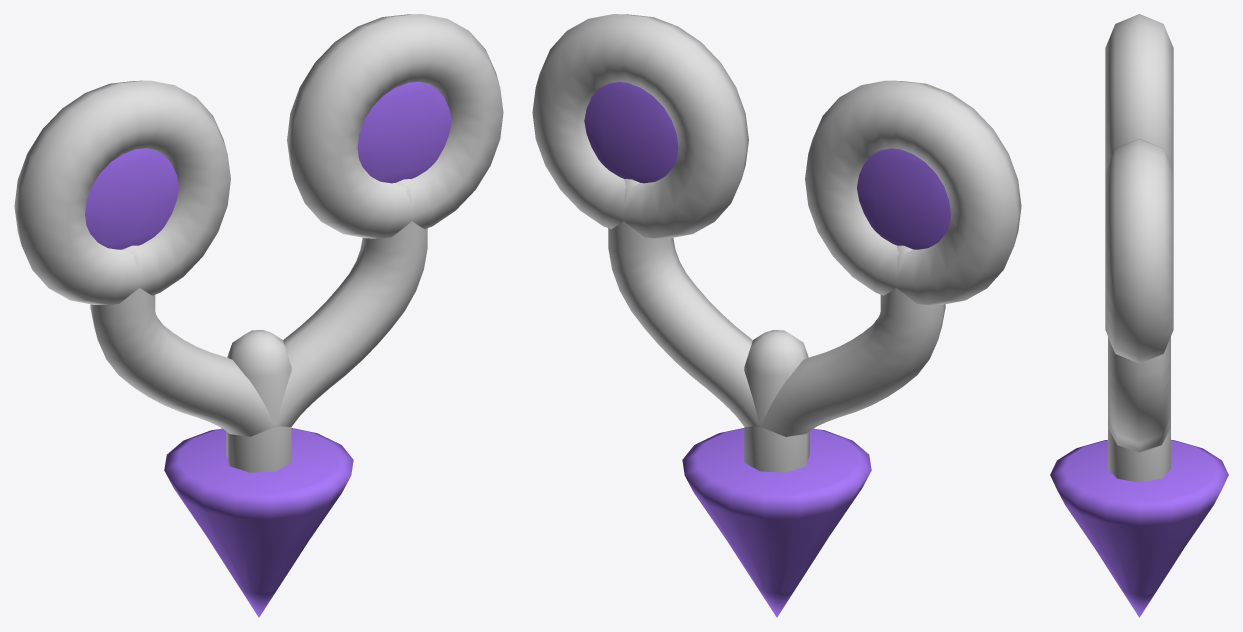
Rendered from git_merge.glb.
3 views of the same model, side by side, from view 1: azimuth 30°, elevation 25°; view 2: azimuth 150°, elevation 25°; view 3: azimuth 270°, elevation 25° (orthographic). The views are drawn at different scales.
Parts seen in each view (by area): view 1: git_merge; view 2: git_merge; view 3: git_merge.
Part boxes in pixels (box(x1,y1,x2,y2)): git_merge: box(14, 14, 503, 617); git_merge: box(532, 14, 1021, 617); git_merge: box(1050, 14, 1228, 617).
Size of the model in its own units: 0.8879 by 1 by 0.3049.
